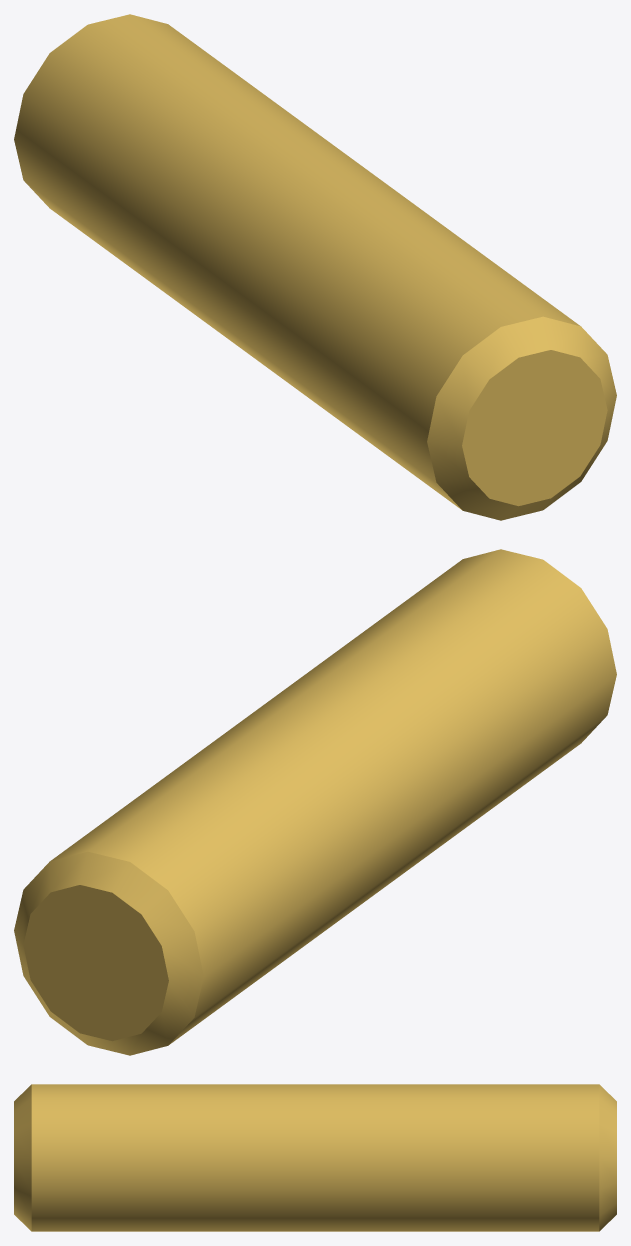
The model's file is pin_dowel_3.glb.
3 views of the same model, one above another, from view 1: azimuth 30°, elevation 25°; view 2: azimuth 150°, elevation 25°; view 3: azimuth 270°, elevation 25° (orthographic). The views are drawn at different scales.
Parts seen in each view (by area): view 1: Pin_Dowel3; view 2: Pin_Dowel3; view 3: Pin_Dowel3.
Boxes of the visible parts, x1=… form: Pin_Dowel3: x1=14, y1=14, x2=616, y2=520; Pin_Dowel3: x1=14, y1=549, x2=616, y2=1055; Pin_Dowel3: x1=14, y1=1084, x2=616, y2=1231.
Size of the model in its own units: 0.003 by 0.00292 by 0.012.
